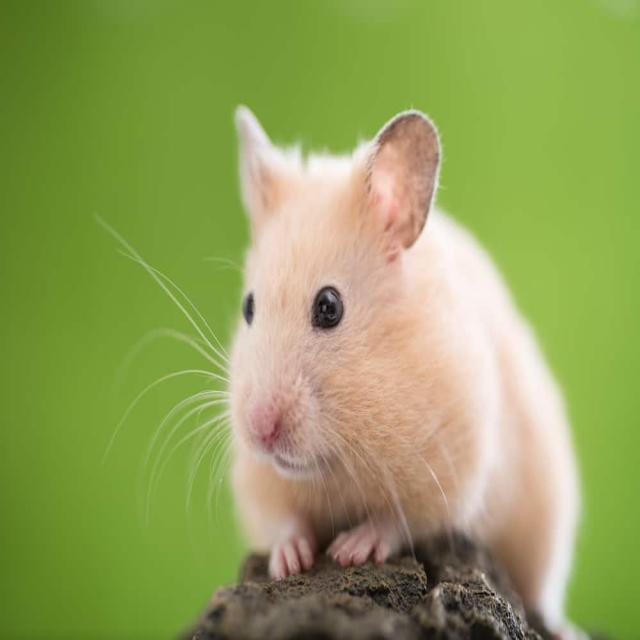hamster: (215, 126, 532, 562)
